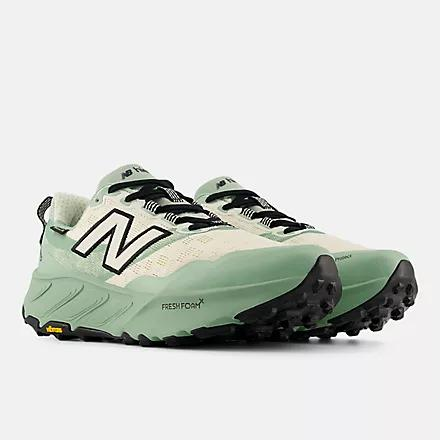NB logo: (64, 198, 182, 279)
